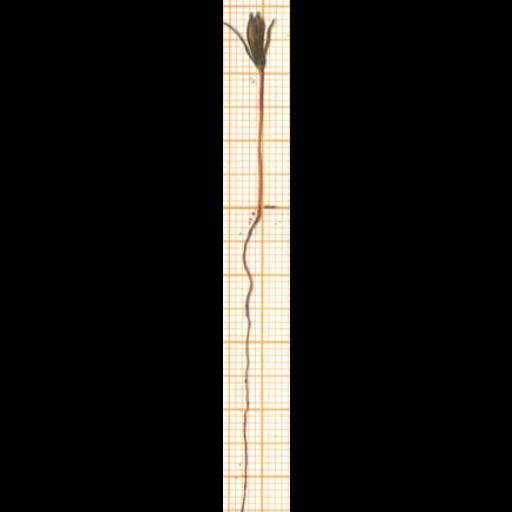flowerPinus: (223, 11, 274, 71)
rootPinus: (241, 210, 260, 511)
stemPinus: (259, 71, 262, 213)
